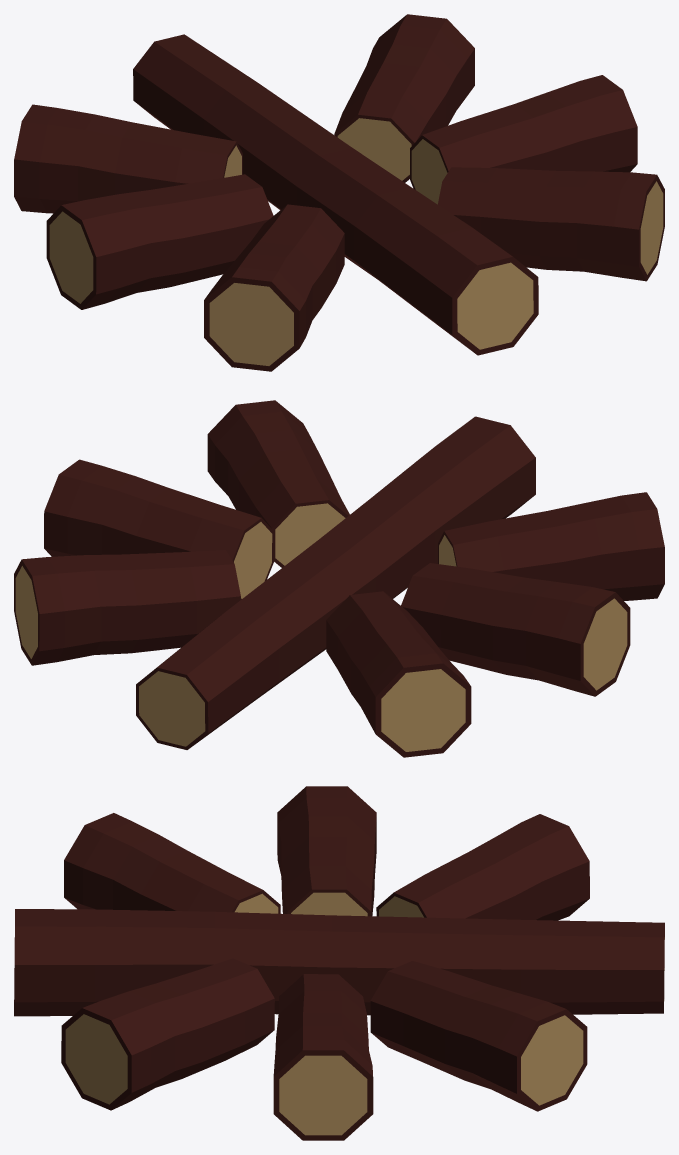
File: SM_Campfire_02.fbx
3 views of the same model, one above another, from view 1: azimuth 30°, elevation 25°; view 2: azimuth 150°, elevation 25°; view 3: azimuth 270°, elevation 25° (orthographic).
Visible parts, largest first — view 1: Campfire; view 2: Campfire; view 3: Campfire.
Boxes of the visible parts, x1,y1,x2,y2 form: Campfire: (14,14,664,371); Campfire: (14,400,664,757); Campfire: (14,786,664,1140).
Bounding box in the file's own units: 62.74 × 10 × 65.28.
